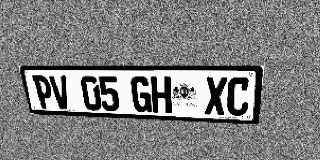0: (79, 76, 102, 111)
5: (98, 76, 120, 111)
C: (226, 77, 251, 116)
G: (130, 76, 152, 112)
H: (150, 76, 171, 113)
P: (32, 75, 55, 109)
V: (49, 75, 72, 109)
X: (204, 77, 227, 115)
